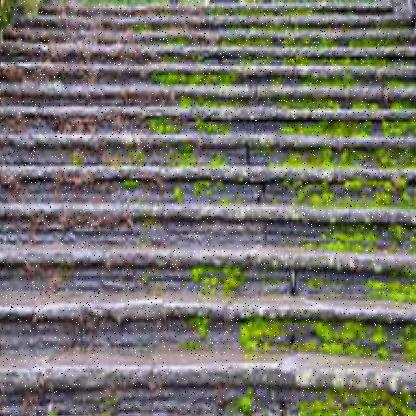stair_up: (5, 58, 395, 378)
